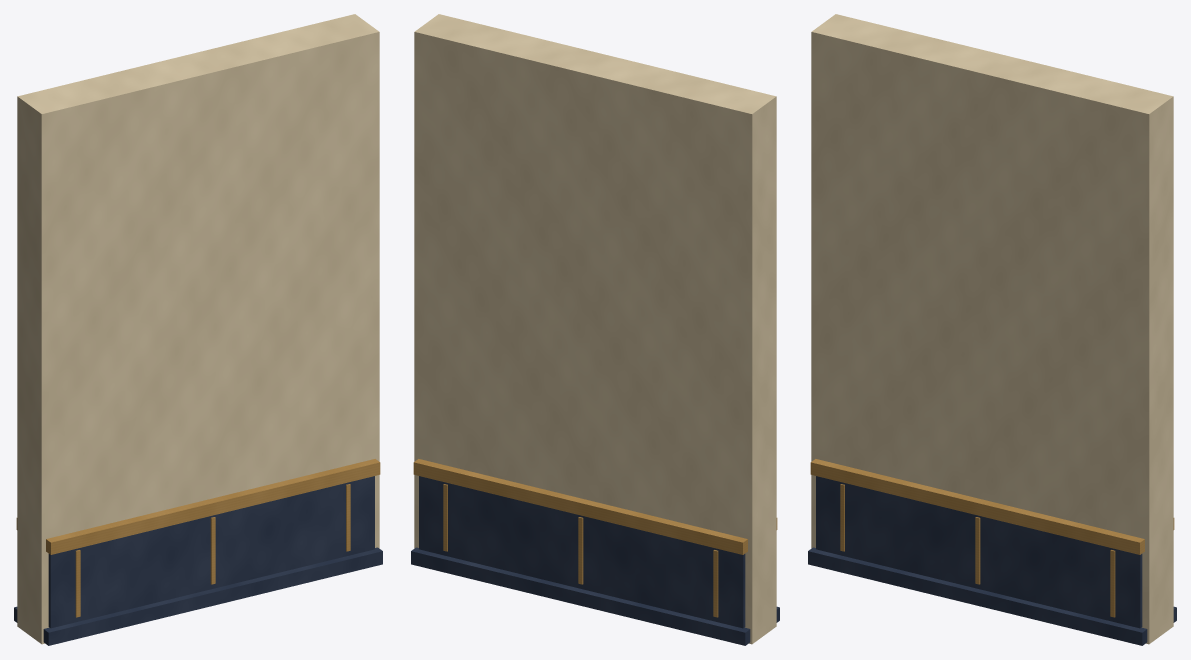
Rendered from SM_Theater_Wall_Lobby4.fbx.
3 renders of one model, left to right at view 1: azimuth 30°, elevation 25°; view 2: azimuth 150°, elevation 25°; view 3: azimuth 330°, elevation 25°, orthographic.
Visible parts, largest first — view 1: SM_Theater_Wall_Lobby4_LOD0; view 2: SM_Theater_Wall_Lobby4_LOD0; view 3: SM_Theater_Wall_Lobby4_LOD0.
Part boxes in pixels (bbox=[...]): SM_Theater_Wall_Lobby4_LOD0: bbox=[14, 14, 382, 645]; SM_Theater_Wall_Lobby4_LOD0: bbox=[411, 14, 779, 645]; SM_Theater_Wall_Lobby4_LOD0: bbox=[808, 14, 1176, 645].
Size of what is drawn, in the model's own units: 4 by 6 by 0.71.
